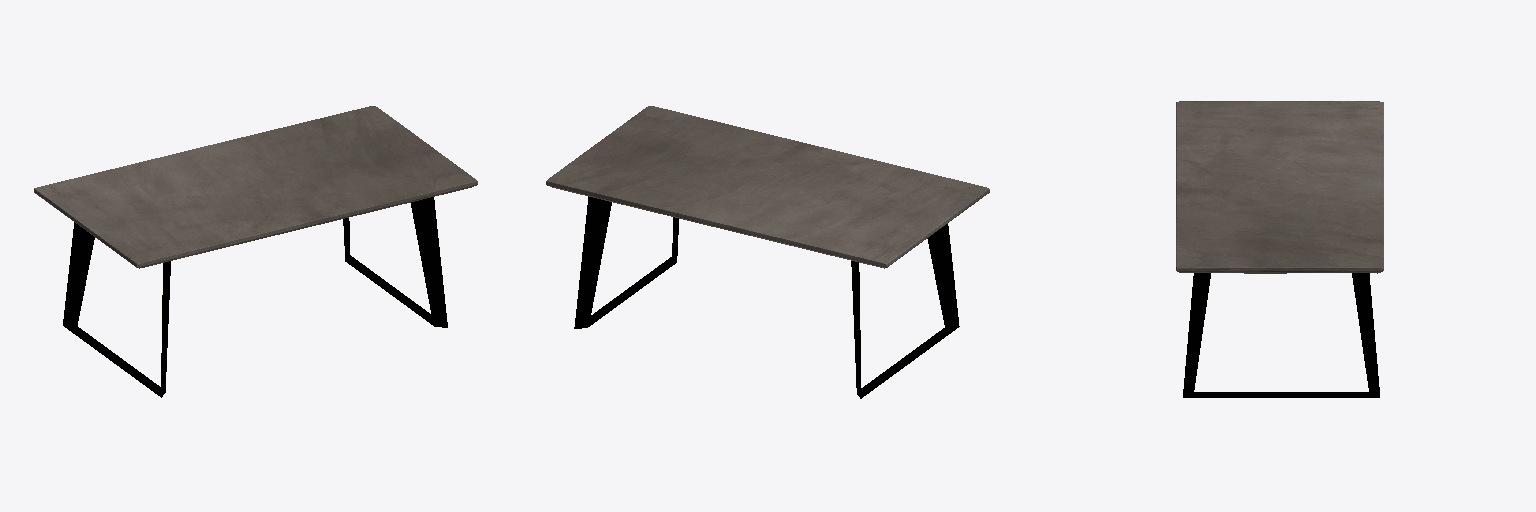
The picture shows the model from 3 angles: view 1: azimuth 30°, elevation 25°; view 2: azimuth 150°, elevation 25°; view 3: azimuth 270°, elevation 25°; orthographic projection.
Parts seen in each view (by area): view 1: Boone_Dining_Table_Mesh.001; view 2: Boone_Dining_Table_Mesh.001; view 3: Boone_Dining_Table_Mesh.001.
Boxes of the visible parts, <box> form: Boone_Dining_Table_Mesh.001: <box>34,106,477,397</box>; Boone_Dining_Table_Mesh.001: <box>546,106,989,398</box>; Boone_Dining_Table_Mesh.001: <box>1176,101,1383,397</box>.
Bounding box in the file's own units: 14.65 × 5.87 × 7.71.
2 materials, 1 textured.